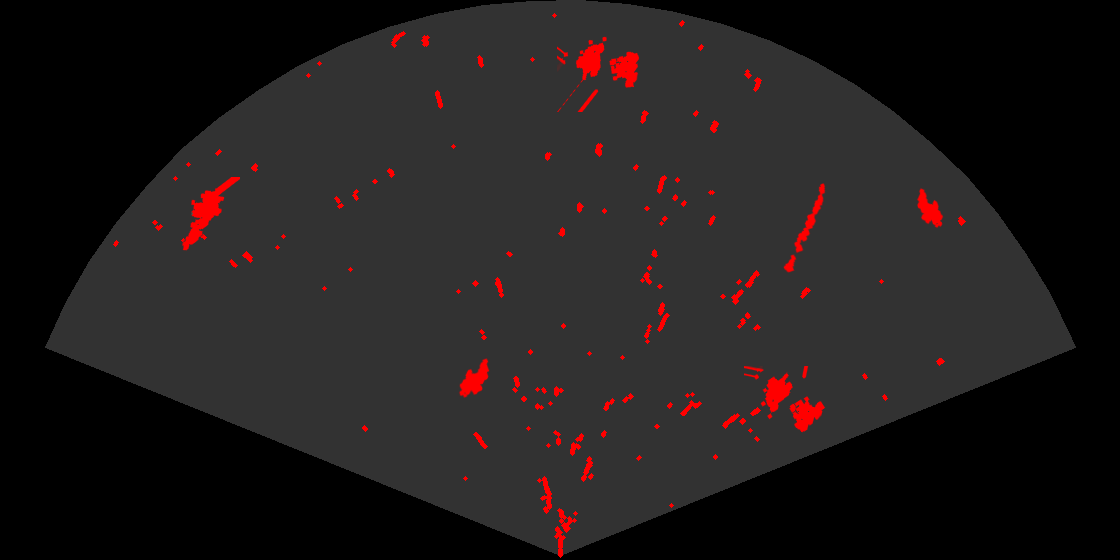AUV: (457, 357, 491, 400), (915, 187, 945, 230)
cage: (557, 35, 641, 112), (744, 366, 827, 434)
chain: (782, 182, 827, 274)
frogman: (181, 177, 240, 252)
